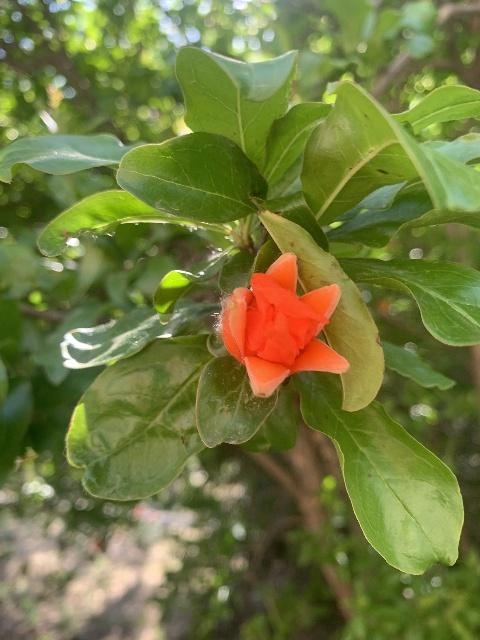flower: (221, 252, 350, 397)
